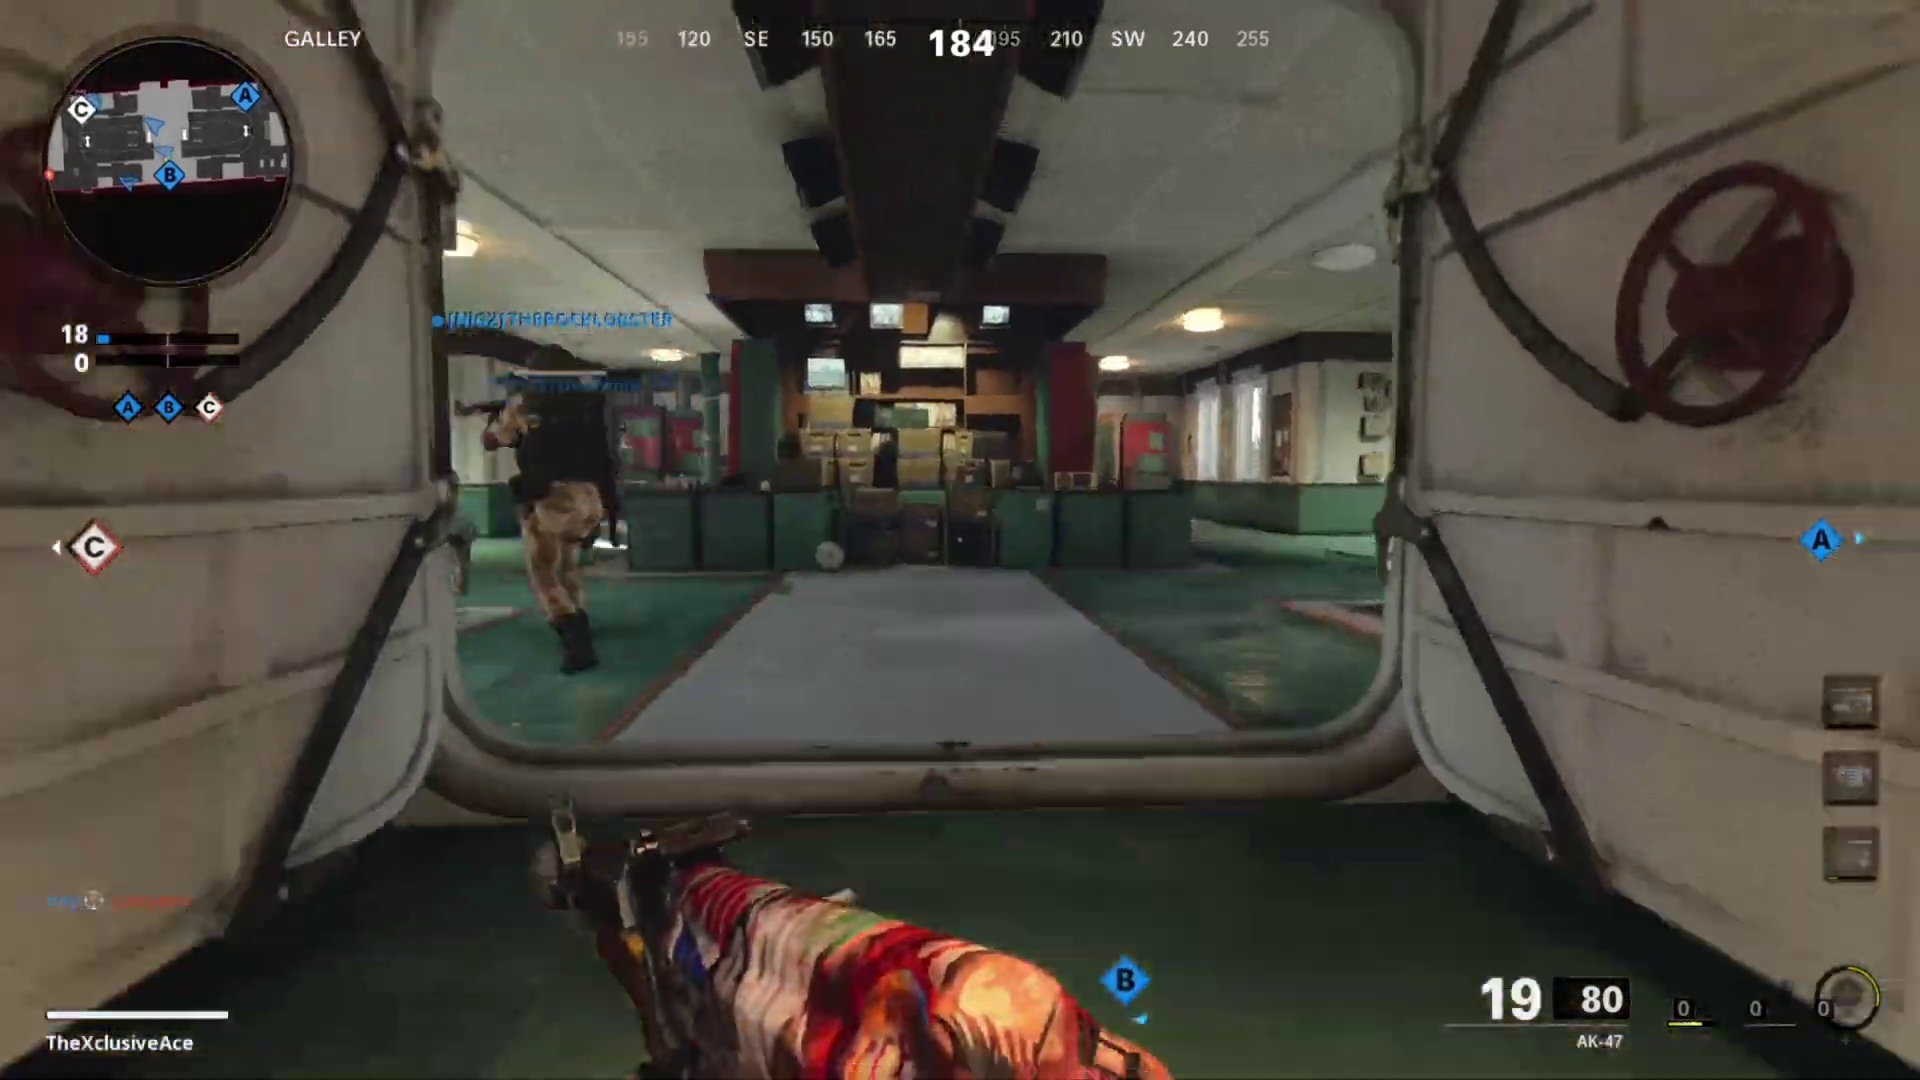person: (473, 336, 626, 668)
